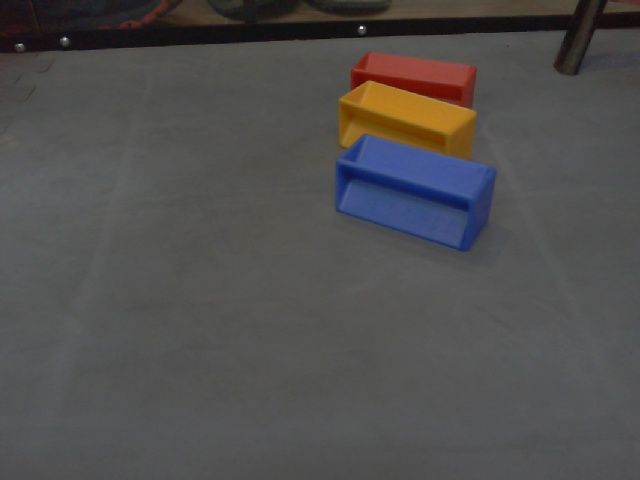BlueSample: (333, 132, 498, 255)
RedSample: (348, 51, 476, 111)
YellowSample: (331, 78, 476, 164)
